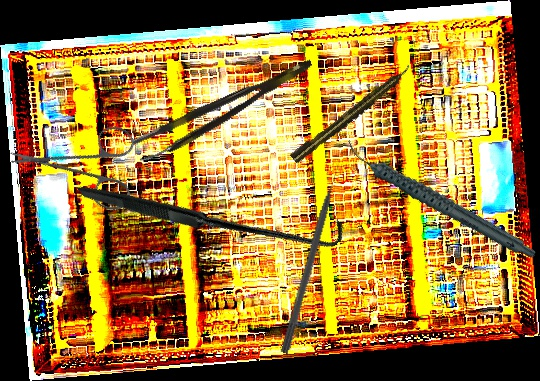Handpiece: (342, 106, 538, 294), (288, 62, 416, 165)
Hook Surgical: (76, 73, 350, 349)
Iris Scissors: (5, 86, 164, 245)
Pusher: (279, 160, 346, 355)
Tissue Forceps: (130, 56, 321, 166)
